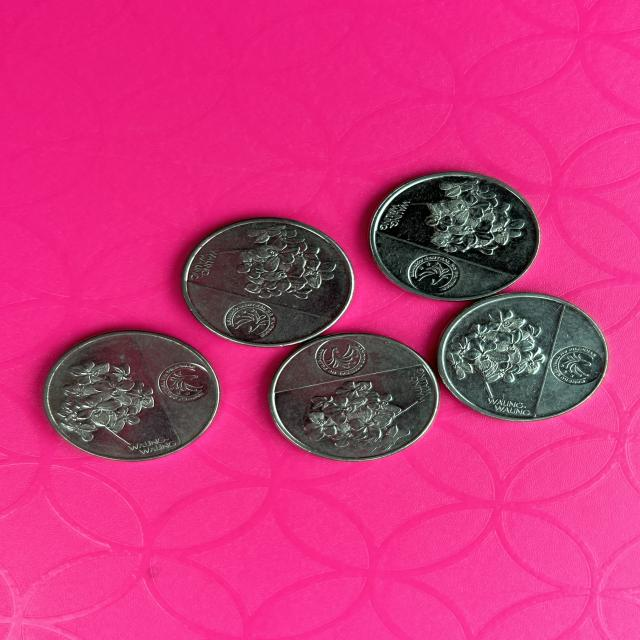1_New_Back: (56, 359, 161, 447), (283, 384, 402, 460), (452, 305, 542, 400), (224, 226, 334, 302), (424, 173, 522, 256)
